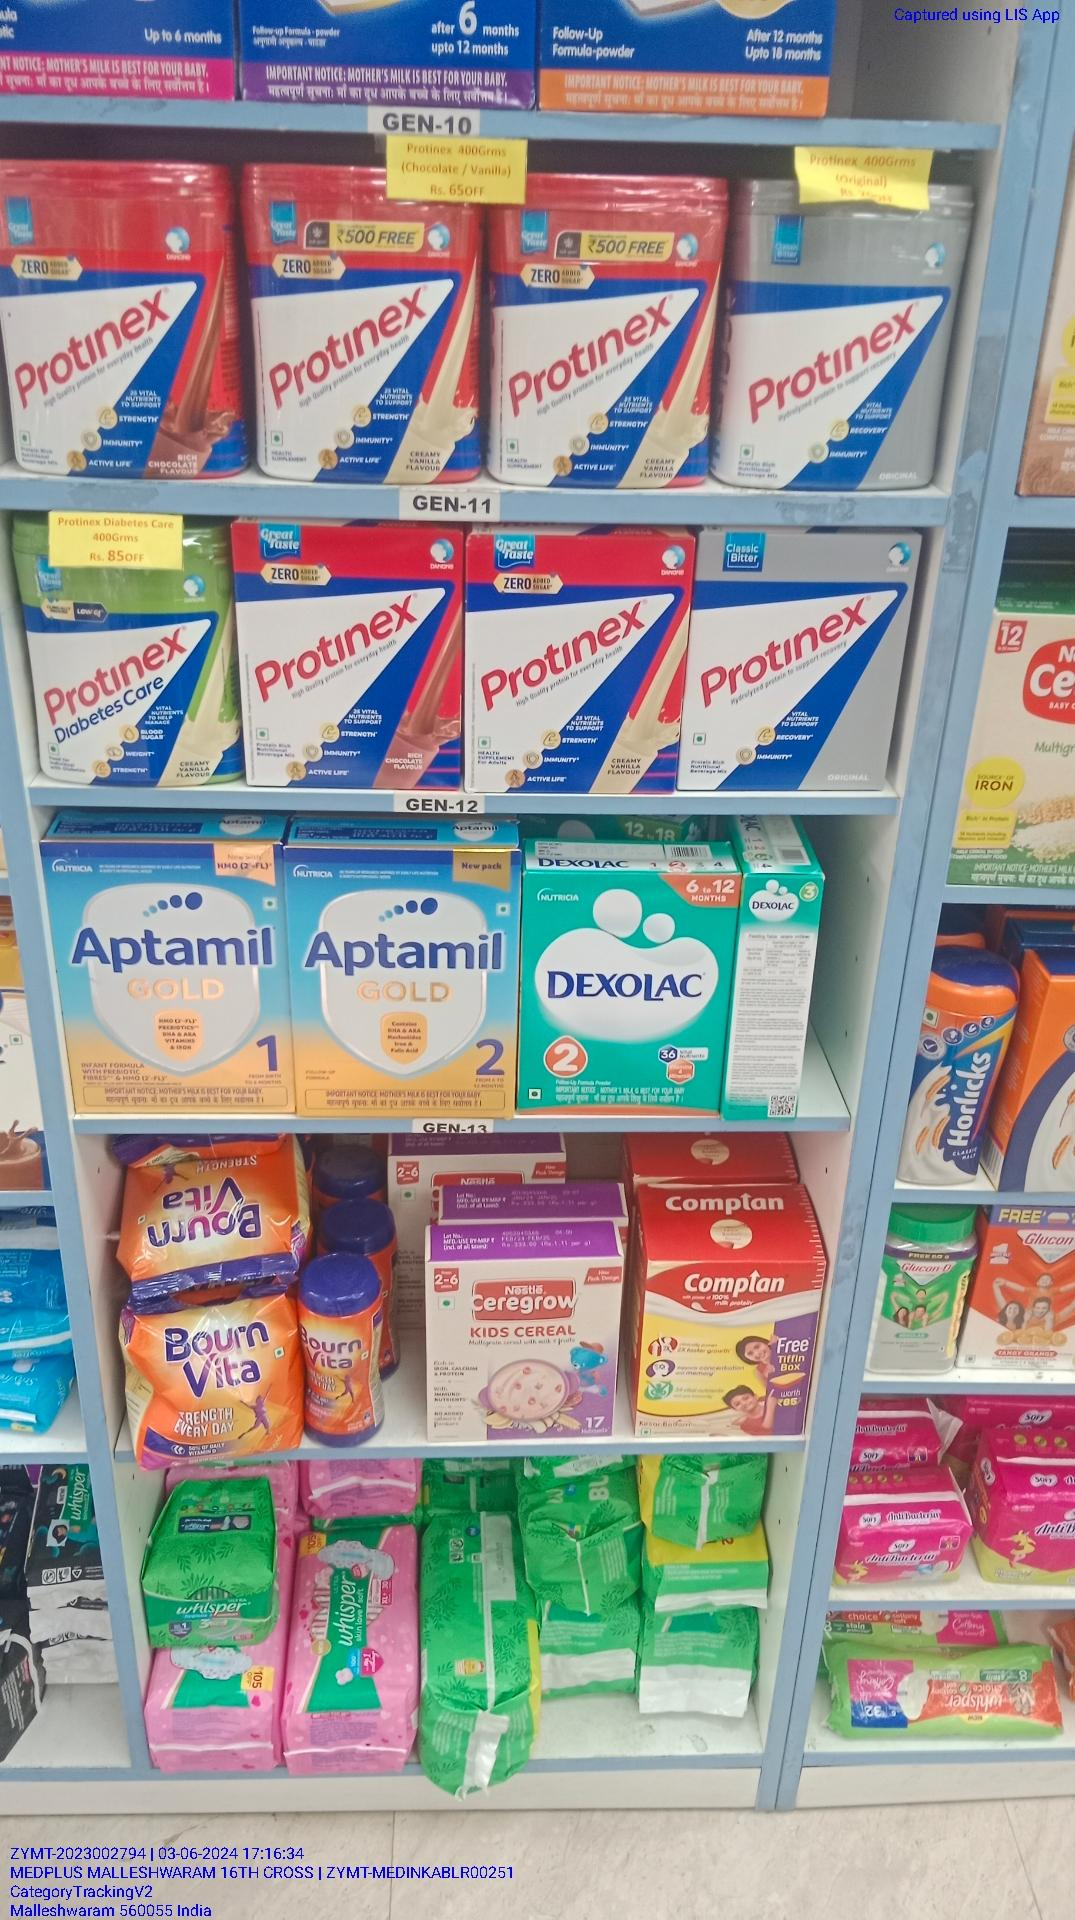BOURN_VITA_200_G_JAR: (294, 1290, 383, 1444)
BOURN_VITA_500_G_POUCH: (125, 1300, 288, 1457)
COMPLAN_KESAR_BADAM_200_GMS_PACK: (638, 1261, 807, 1436)
HORLICK_CLASSIC_MALT_500_G_JAR: (909, 985, 988, 1192)
PROTINEX_CHOCOLATE_400_G_JAR: (0, 154, 240, 484)
PROTINEX_ORIGINAL_400_G_JAR: (731, 194, 939, 487)
